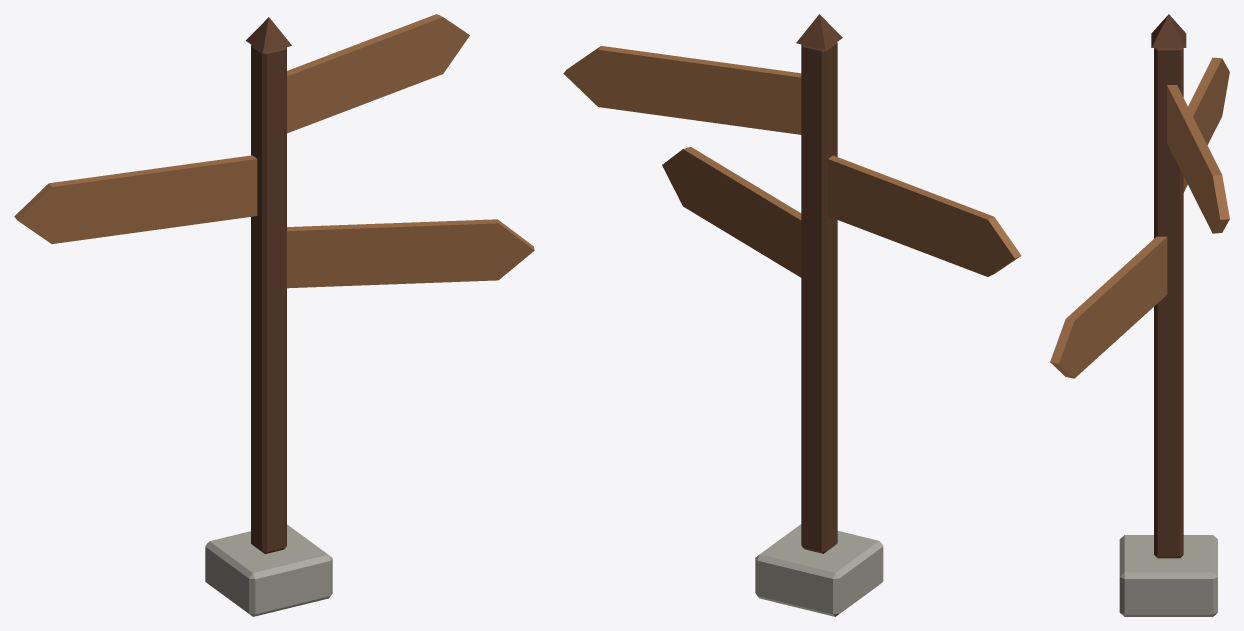
The model's file is signpost_wooden.glb.
The picture shows the model from 3 angles, left to right: view 1: azimuth 30°, elevation 25°; view 2: azimuth 150°, elevation 25°; view 3: azimuth 270°, elevation 25°; orthographic projection.
Parts seen in each view (by area): view 1: signpost_wooden; view 2: signpost_wooden; view 3: signpost_wooden.
Part boxes in pixels (left/top/right/bottom): signpost_wooden: left=14, top=14, right=534, bottom=616; signpost_wooden: left=563, top=14, right=1021, bottom=616; signpost_wooden: left=1050, top=14, right=1229, bottom=616.
Size of the model in its own units: 2.16 by 2.62 by 0.7313.
